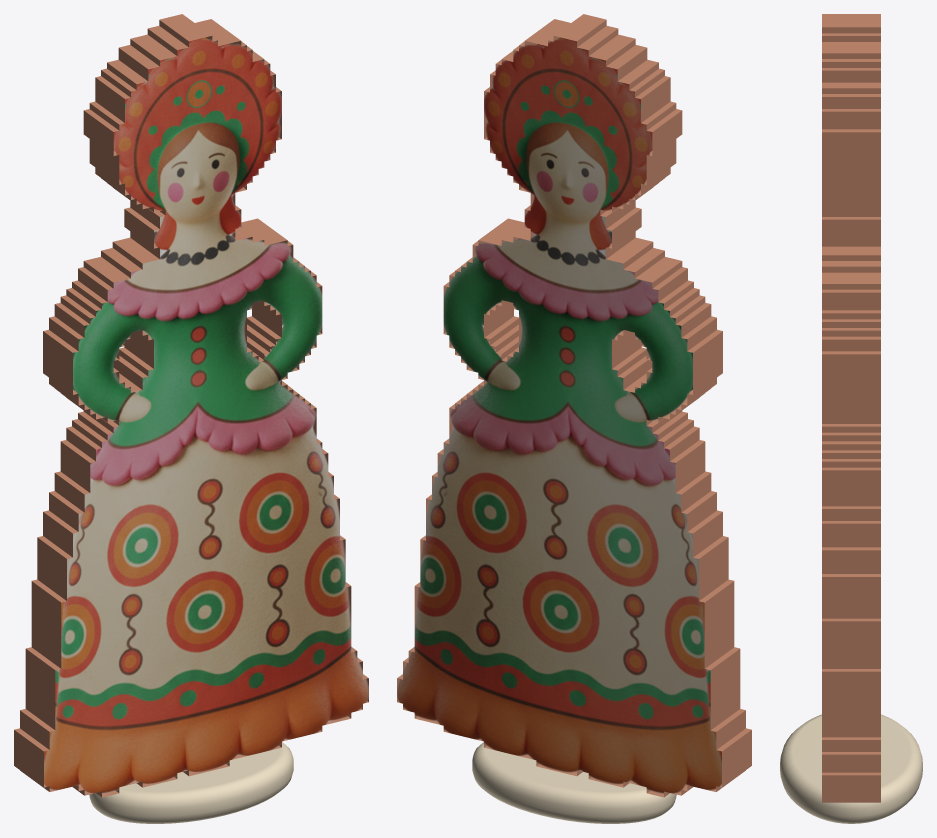
The model's file is ar-lady.glb.
3 renders of one model, left to right at view 1: azimuth 30°, elevation 25°; view 2: azimuth 150°, elevation 25°; view 3: azimuth 270°, elevation 25°, orthographic.
Visible parts, largest first — view 1: ToyArtworkSilhouette, SmallRoundedDisplayFoot; view 2: ToyArtworkSilhouette, SmallRoundedDisplayFoot; view 3: ToyArtworkSilhouette, SmallRoundedDisplayFoot.
Boxes of the visible parts, <box> form: ToyArtworkSilhouette: <box>14,14,368,797</box>; SmallRoundedDisplayFoot: <box>89,742,293,823</box>; ToyArtworkSilhouette: <box>397,14,751,797</box>; SmallRoundedDisplayFoot: <box>472,742,676,823</box>; ToyArtworkSilhouette: <box>822,14,880,802</box>; SmallRoundedDisplayFoot: <box>780,714,922,823</box>.
Bounding box in the file's own units: 0.0882 × 0.1989 × 0.034.
3 materials, 1 textured.
